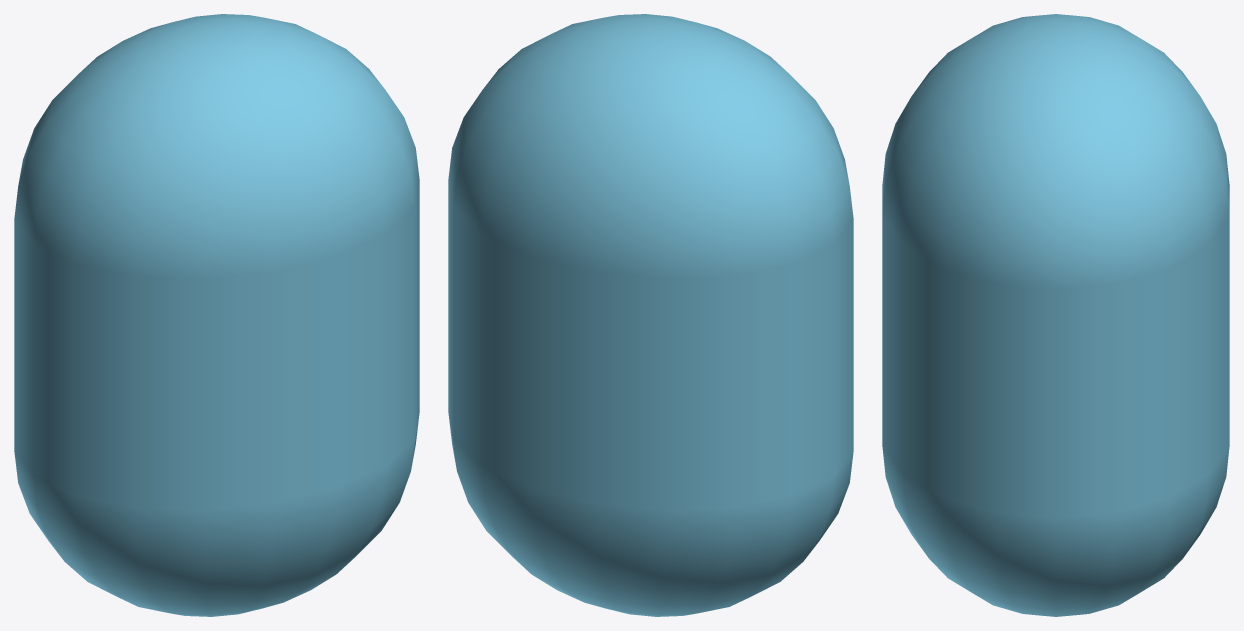
File: torso_sporty.glb
3 renders of one model, left to right at view 1: azimuth 30°, elevation 25°; view 2: azimuth 150°, elevation 25°; view 3: azimuth 270°, elevation 25°, orthographic.
Visible parts, largest first — view 1: Torso; view 2: Torso; view 3: Torso.
Boxes of the visible parts, bbox=[...] form: Torso: bbox=[14, 14, 419, 616]; Torso: bbox=[448, 14, 853, 616]; Torso: bbox=[882, 14, 1229, 616].
Bounding box in the file's own units: 12.53 × 18.56 × 10.42.
